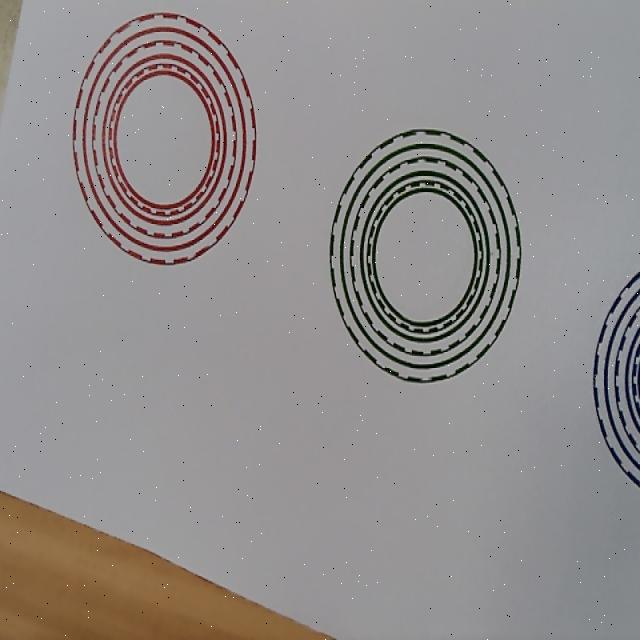g: (329, 128, 522, 384)
red-green-blue: (72, 13, 258, 268)
